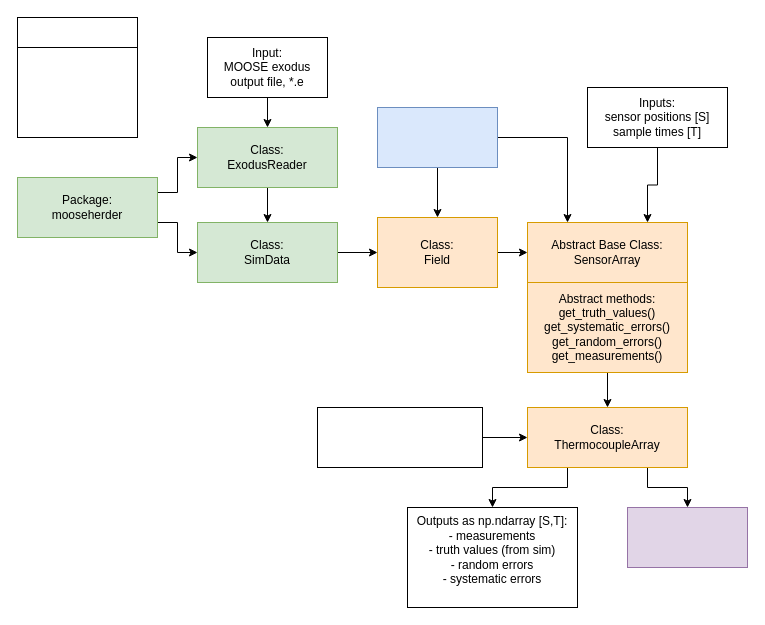
Image size: 765x625. Some labels were removed from this diagram. The centre of each missing label's shape, as x and y in pixels:
"Dependencies" goes at [77,32].
"Inputs: Systematic error function Random error function" goes at [399,437].
"Package: pycave" goes at [437,137].
"python 3.11 numpy matplotlib pyvista mooseherder" goes at [77,92].
"Visualisers as - pyvista - matplotlib" goes at [687,537].
